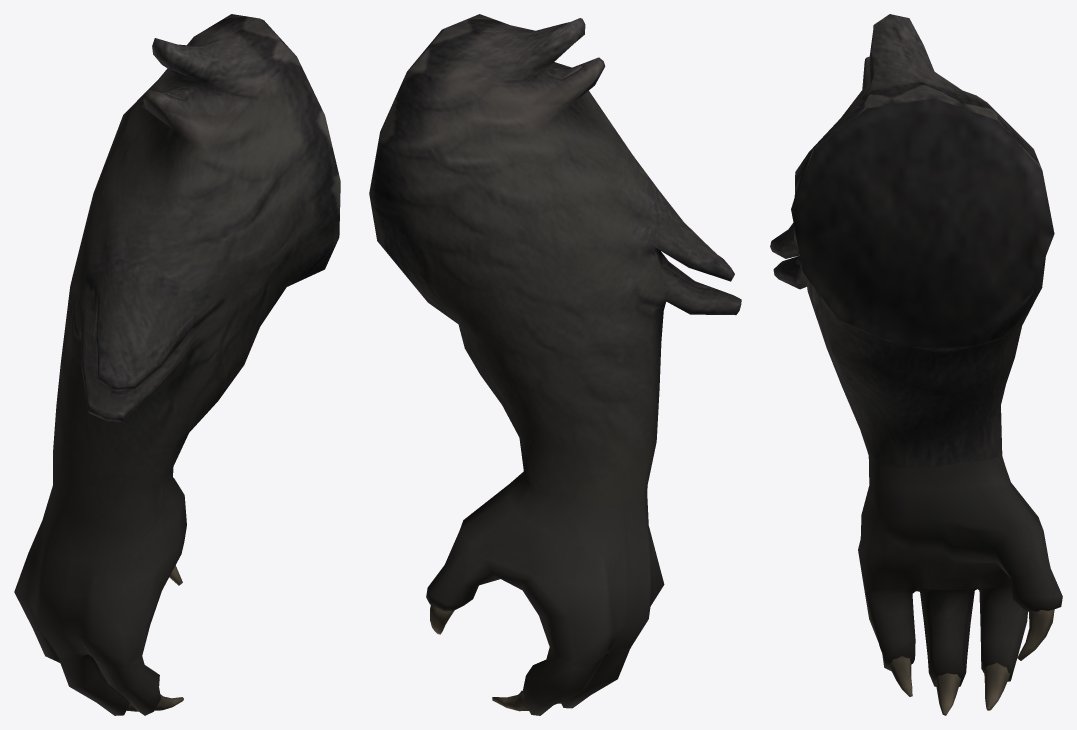
The picture shows the model from 3 angles, left to right: view 1: azimuth 30°, elevation 25°; view 2: azimuth 150°, elevation 25°; view 3: azimuth 270°, elevation 25°; orthographic projection. The views are drawn at different scales.
Visible parts, largest first — view 1: Mesh; view 2: Mesh; view 3: Mesh.
Boxes of the visible parts, x1=… form: Mesh: x1=14, y1=14, x2=340, y2=715; Mesh: x1=369, y1=14, x2=741, y2=715; Mesh: x1=770, y1=14, x2=1062, y2=715.
Bounding box in the file's own units: 1.18 × 2.95 × 1.14.
